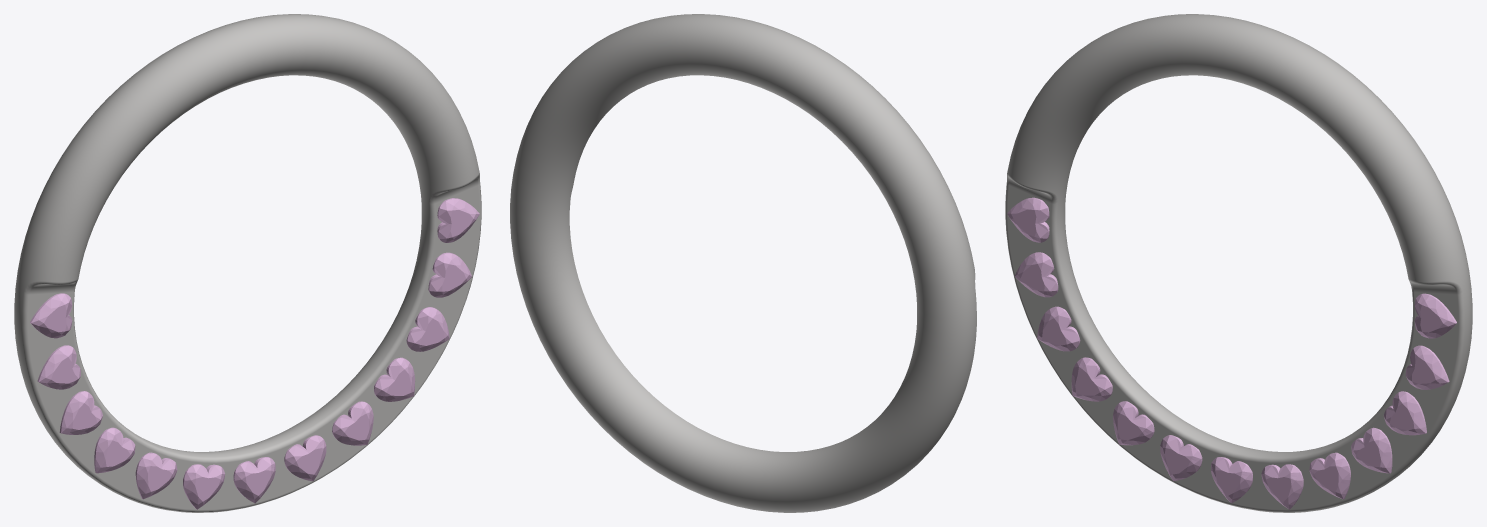
Rendered from heart_septum.glb.
3 views of the same model, side by side, from view 1: azimuth 30°, elevation 25°; view 2: azimuth 150°, elevation 25°; view 3: azimuth 330°, elevation 25° (orthographic).
Parts seen in each view (by area): view 1: Object_2, Object_3, Object_4; view 2: Object_2; view 3: Object_2, Object_3, Object_4.
Part boxes in pixels (left/top/right/bottom): Object_2: left=14, top=14, right=481, bottom=512; Object_3: left=30, top=293, right=449, bottom=503; Object_4: left=428, top=198, right=479, bottom=297; Object_2: left=510, top=14, right=976, bottom=512; Object_2: left=1005, top=14, right=1472, bottom=512; Object_3: left=1007, top=197, right=1426, bottom=509; Object_4: left=1405, top=293, right=1456, bottom=389.
Size of the model in its own units: 0.0104 by 0.0104 by 0.0012.
